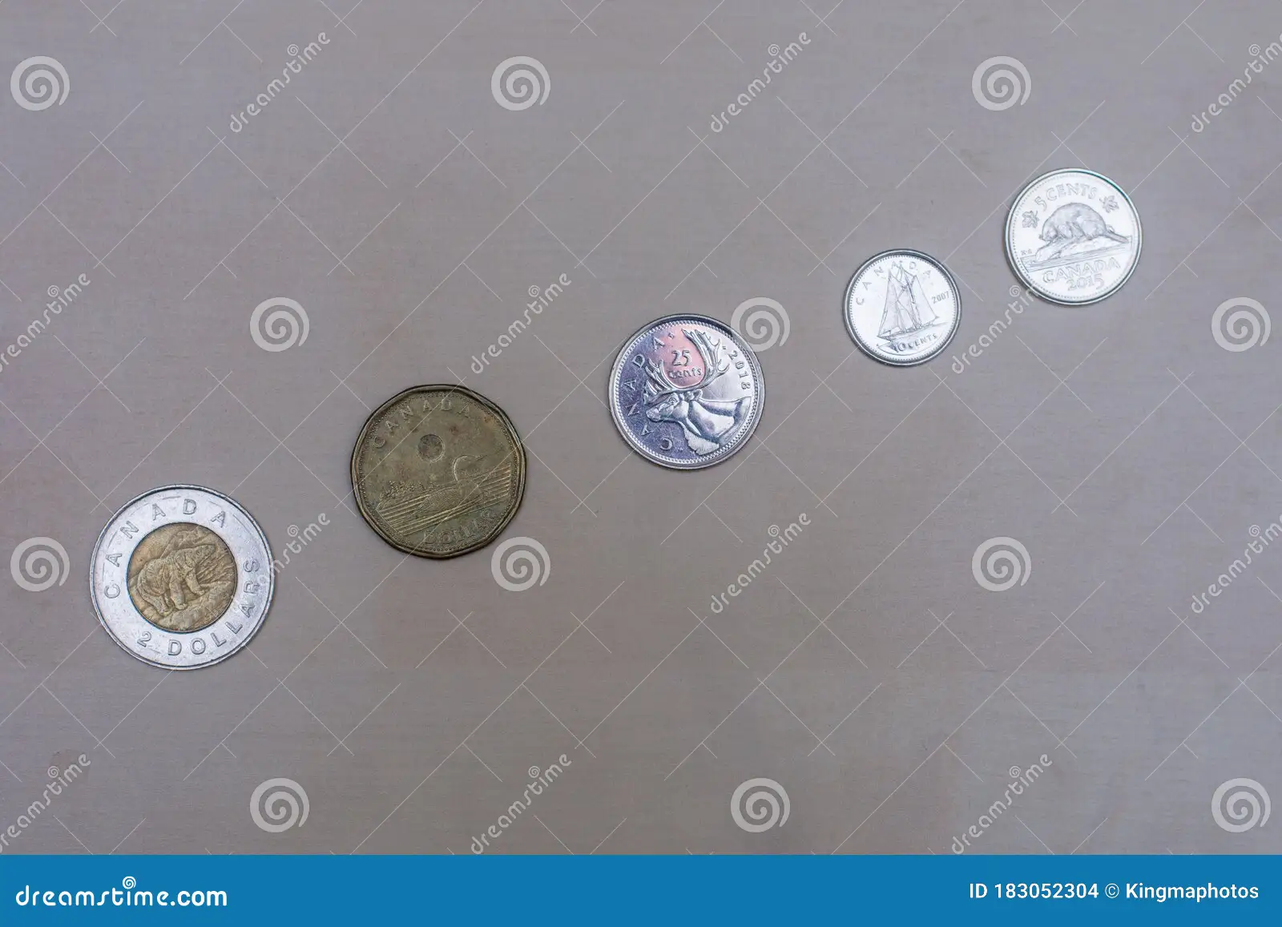coin: (91, 485, 272, 668), (351, 385, 526, 558), (610, 314, 764, 468), (1005, 168, 1141, 304), (844, 249, 960, 365)
